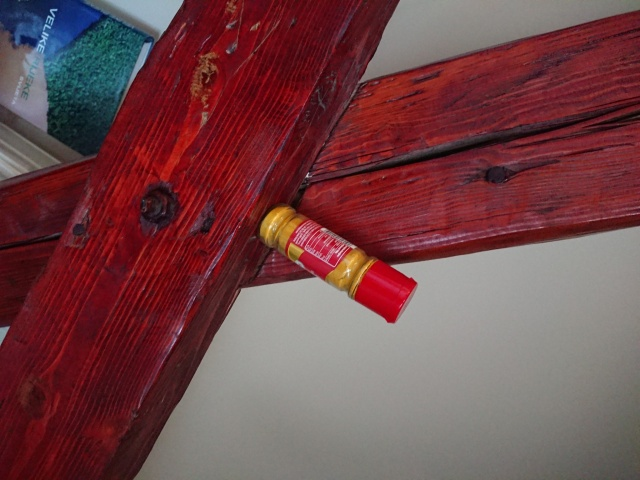Kotanyi Curry Spices Mix 70g: (255, 202, 420, 326)
